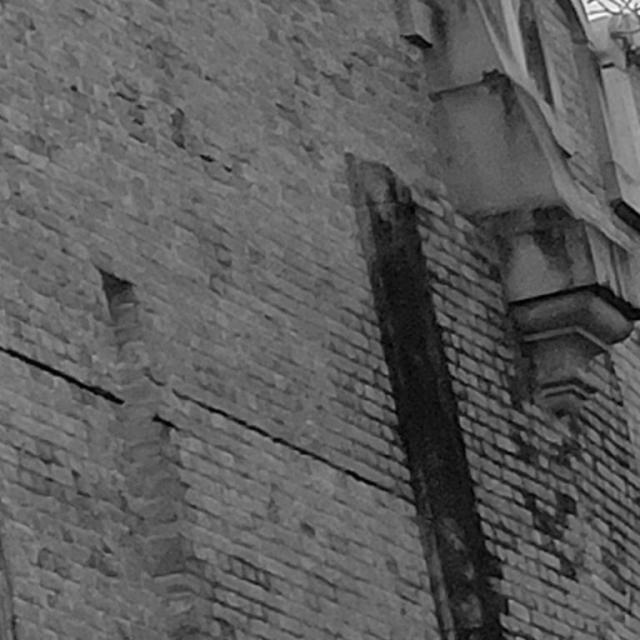crack: (144, 372, 416, 503), (1, 345, 122, 403), (151, 412, 177, 428)
